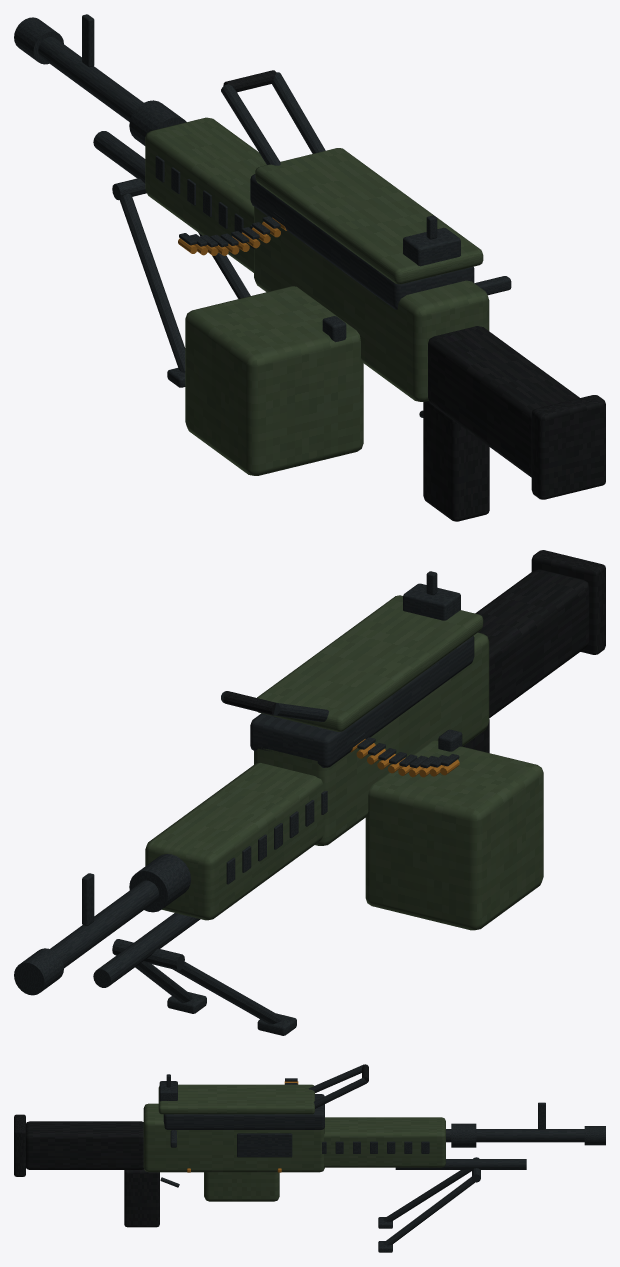
File: m249-view.glb
3 renders of one model, top to bottom at view 1: azimuth 30°, elevation 25°; view 2: azimuth 150°, elevation 25°; view 3: azimuth 270°, elevation 25°, orthographic. The views are drawn at different scales.
Parts seen in each view (by area): view 1: magazine, receiver, feed_cover, stock, handguard, stock-pad, grip, upper-receiver, barrel, bipod-leg, rear-sight-base, barrel-collar (+4 smaller); view 2: magazine, handguard, feed_cover, receiver, stock, upper-receiver, barrel, stock-pad, gas-tube, barrel-collar, flash-hider, rear-sight-base (+6 smaller); view 3: receiver, stock, handguard, feed_cover, upper-receiver, magazine, grip, barrel, ejection-port, gas-tube, bipod-leg.001, stock-pad (+6 smaller).
Boxes of the visible parts, x1,y1,x2,y2 form: magazine: [185, 286, 363, 475]; receiver: [254, 206, 489, 401]; feed_cover: [255, 148, 483, 284]; stock: [428, 326, 579, 477]; handguard: [145, 117, 266, 272]; stock-pad: [531, 395, 605, 499]; grip: [423, 401, 489, 521]; upper-receiver: [250, 174, 474, 309]; barrel: [38, 37, 143, 121]; bipod-leg: [119, 193, 185, 372]; rear-sight-base: [403, 227, 460, 266]; barrel-collar: [129, 100, 186, 145]; magazine: [365, 740, 543, 930]; handguard: [145, 763, 323, 920]; feed_cover: [257, 595, 483, 731]; receiver: [254, 632, 489, 845]; stock: [475, 569, 589, 717]; upper-receiver: [250, 636, 474, 767]; barrel: [50, 880, 158, 968]; stock-pad: [531, 550, 605, 654]; gas-tube: [93, 913, 200, 987]; barrel-collar: [129, 854, 190, 912]; flash-hider: [14, 948, 63, 995]; rear-sight-base: [403, 583, 460, 620]; receiver: [143, 1103, 324, 1172]; stock: [26, 1121, 143, 1169]; handguard: [324, 1117, 445, 1167]; feed_cover: [158, 1084, 314, 1114]; upper-receiver: [163, 1094, 324, 1129]; magazine: [204, 1172, 279, 1201]; grip: [124, 1169, 159, 1227]; barrel: [446, 1129, 584, 1142]; ejection-port: [237, 1133, 292, 1157]; gas-tube: [395, 1159, 526, 1169]; bipod-leg.001: [383, 1176, 474, 1245]; stock-pad: [14, 1114, 25, 1176].
Bounding box in the file's own units: 0.2865 × 0.365 × 1.17.
4 materials, 4 textured.
